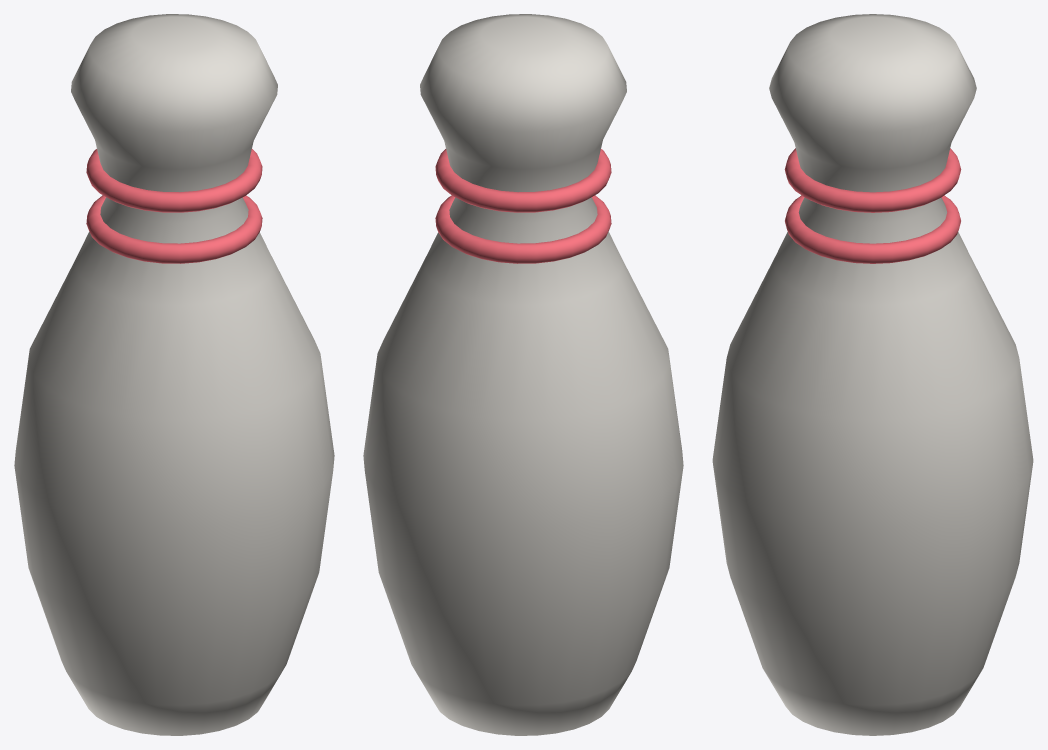
Rendered from bowling_pin_smooth.glb.
3 views of the same model, side by side, from view 1: azimuth 30°, elevation 25°; view 2: azimuth 150°, elevation 25°; view 3: azimuth 270°, elevation 25° (orthographic).
Visible parts, largest first — view 1: PinBody, RedStripe_0.34, RedStripe_0.46; view 2: PinBody, RedStripe_0.34, RedStripe_0.46; view 3: PinBody, RedStripe_0.34, RedStripe_0.46.
Boxes of the visible parts, <box> form: PinBody: <box>14,14,334,735</box>; RedStripe_0.34: <box>86,195,262,263</box>; RedStripe_0.46: <box>86,149,262,212</box>; PinBody: <box>363,14,683,735</box>; RedStripe_0.34: <box>435,195,611,263</box>; RedStripe_0.46: <box>435,149,611,212</box>; PinBody: <box>712,14,1033,735</box>; RedStripe_0.34: <box>785,195,960,263</box>; RedStripe_0.46: <box>784,148,961,212</box>.
Size of the model in its own units: 0.68 by 1.55 by 0.68.
